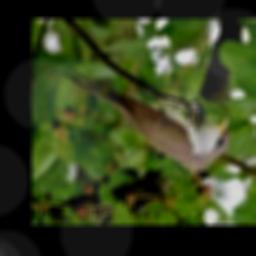Cuckoo: (63, 73, 228, 172)
